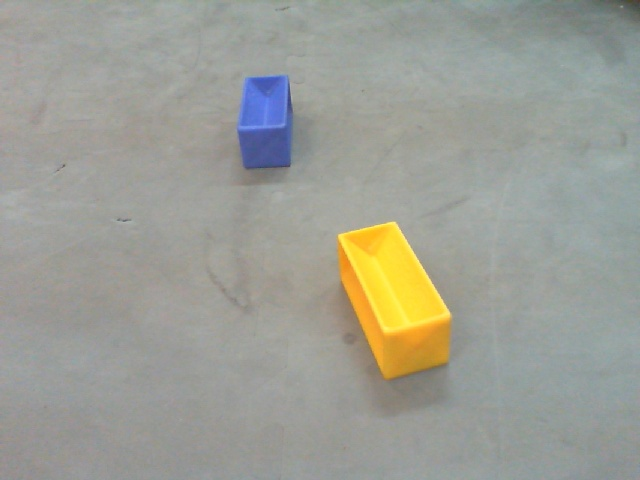BlueSample: (238, 73, 295, 171)
YellowSample: (336, 221, 455, 382)
